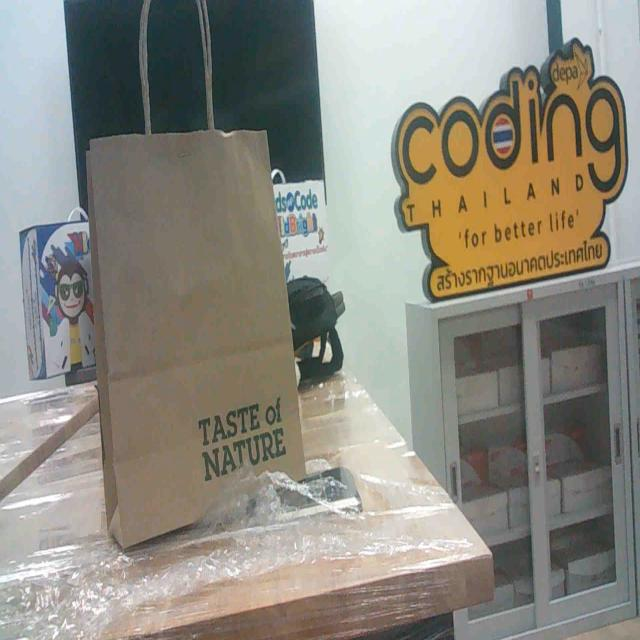bag: (67, 115, 316, 518)
